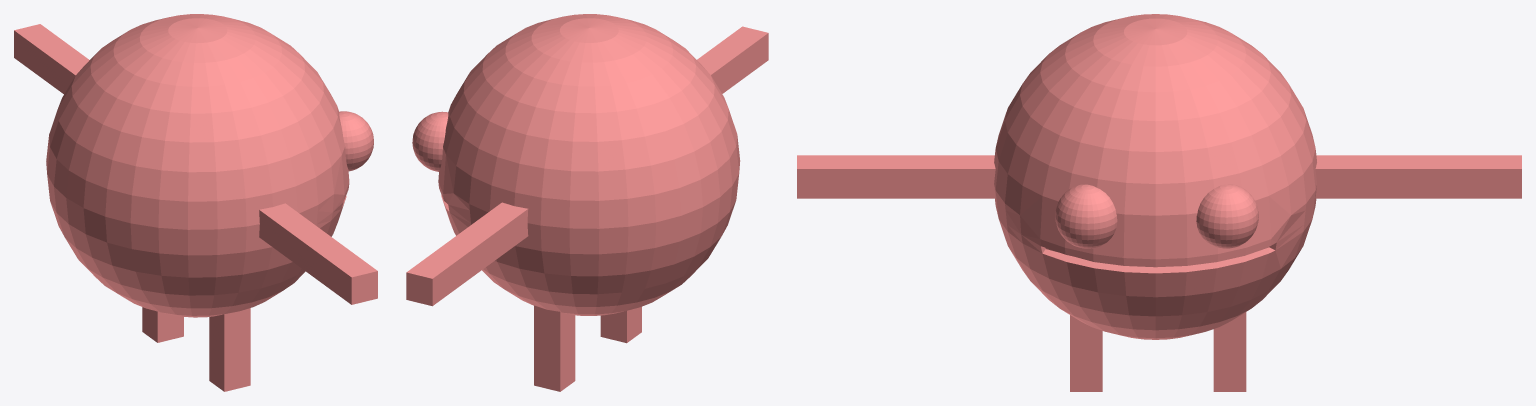
The model's file is enemy_ボーンなし.fbx.
3 views of the same model, side by side, from view 1: azimuth 30°, elevation 25°; view 2: azimuth 150°, elevation 25°; view 3: azimuth 270°, elevation 25° (orthographic). The views are drawn at different scales.
Visible parts, largest first — view 1: 立方体.001; view 2: 立方体.001; view 3: 立方体.001.
Part boxes in pixels (bbox=[...]): 立方体.001: bbox=[14, 14, 377, 391]; 立方体.001: bbox=[406, 14, 768, 391]; 立方体.001: bbox=[797, 14, 1521, 391].
Bounding box in the file's own units: 207 × 444 × 241.
